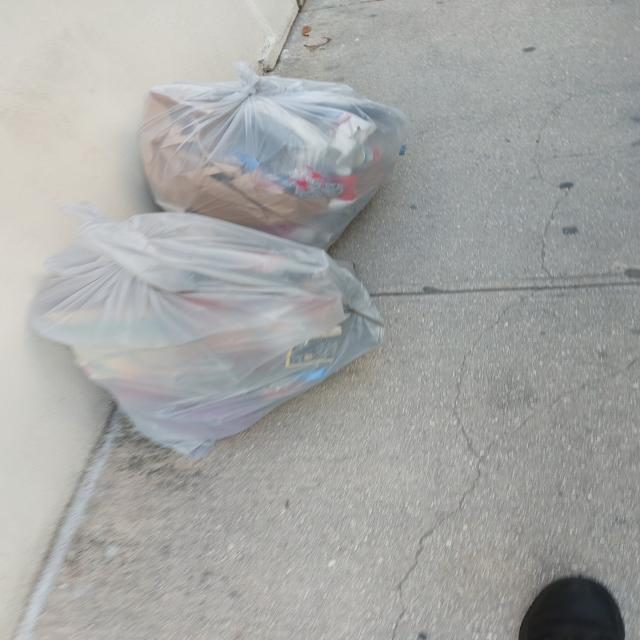Recycled Waste -Grey or Green Bag-: (33, 203, 401, 477), (142, 58, 417, 249)
